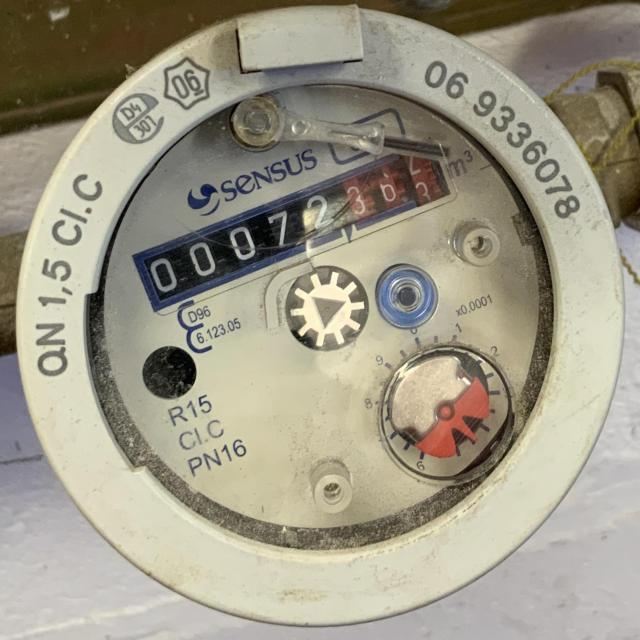gaz_meter: (92, 86, 552, 550)
indication: (131, 141, 457, 315)
